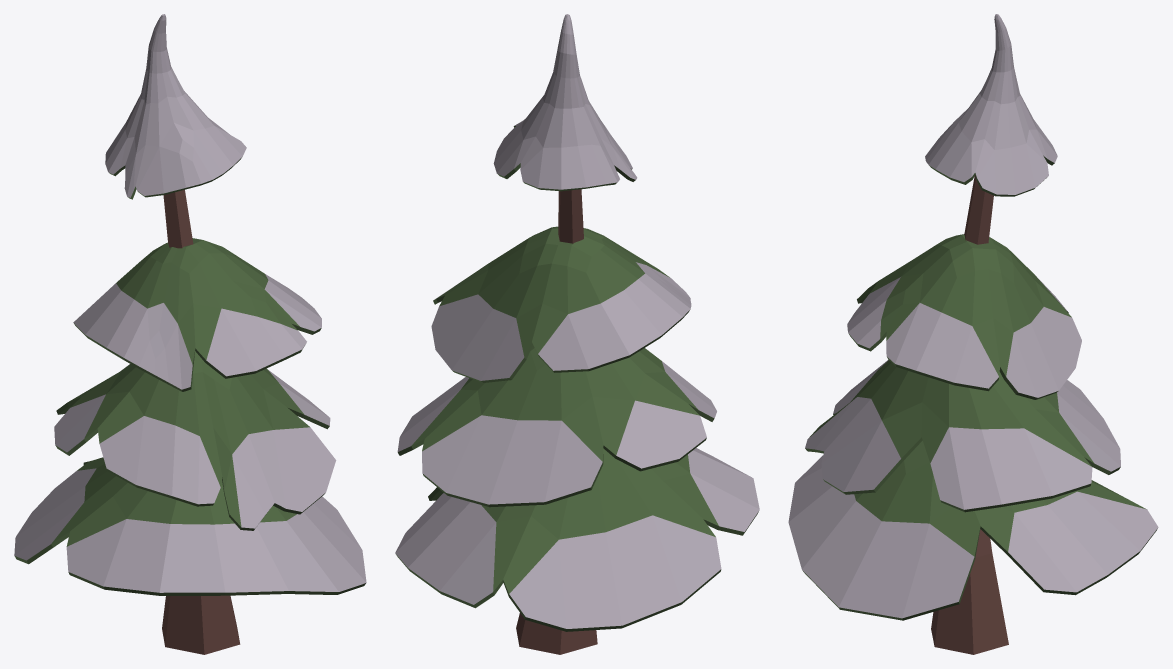
Rendered from PineTree_Snow_2.gltf.
3 renders of one model, left to right at view 1: azimuth 30°, elevation 25°; view 2: azimuth 150°, elevation 25°; view 3: azimuth 270°, elevation 25°, orthographic. The views are drawn at different scales.
Visible parts, largest first — view 1: PineTree_Snow_2; view 2: PineTree_Snow_2; view 3: PineTree_Snow_2.
Part boxes in pixels (<box>): PineTree_Snow_2: <box>14,14,366,654</box>; PineTree_Snow_2: <box>395,14,759,654</box>; PineTree_Snow_2: <box>788,14,1158,654</box>.
Bounding box in the file's own units: 1.8 × 3.56 × 1.96.
